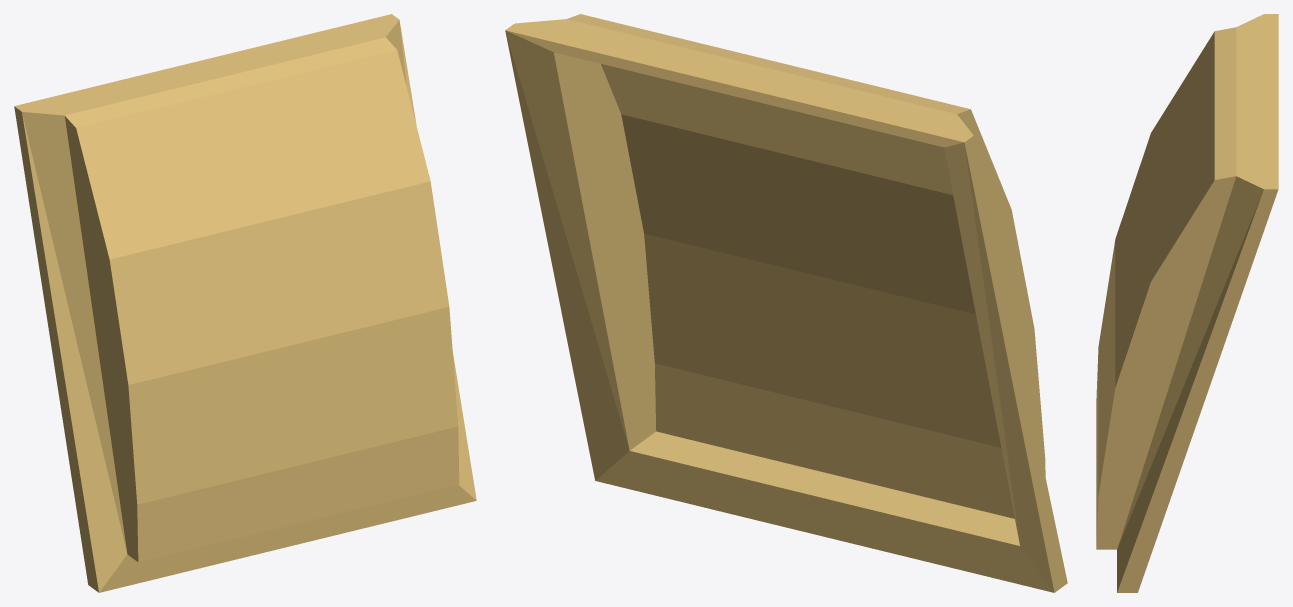
File: Industrial_New_Wall_Panel_Andled_Empty.fbx
The picture shows the model from 3 angles, left to right: view 1: azimuth 30°, elevation 25°; view 2: azimuth 150°, elevation 25°; view 3: azimuth 270°, elevation 25°; orthographic projection. The views are drawn at different scales.
Parts seen in each view (by area): view 1: Cube.008; view 2: Cube.008; view 3: Cube.008.
Boxes of the visible parts, box(x1,y1,x2,y2) form: Cube.008: box(14, 14, 476, 592); Cube.008: box(505, 14, 1067, 592); Cube.008: box(1096, 14, 1278, 592).
Bounding box in the file's own units: 200 × 215 × 87.89.
